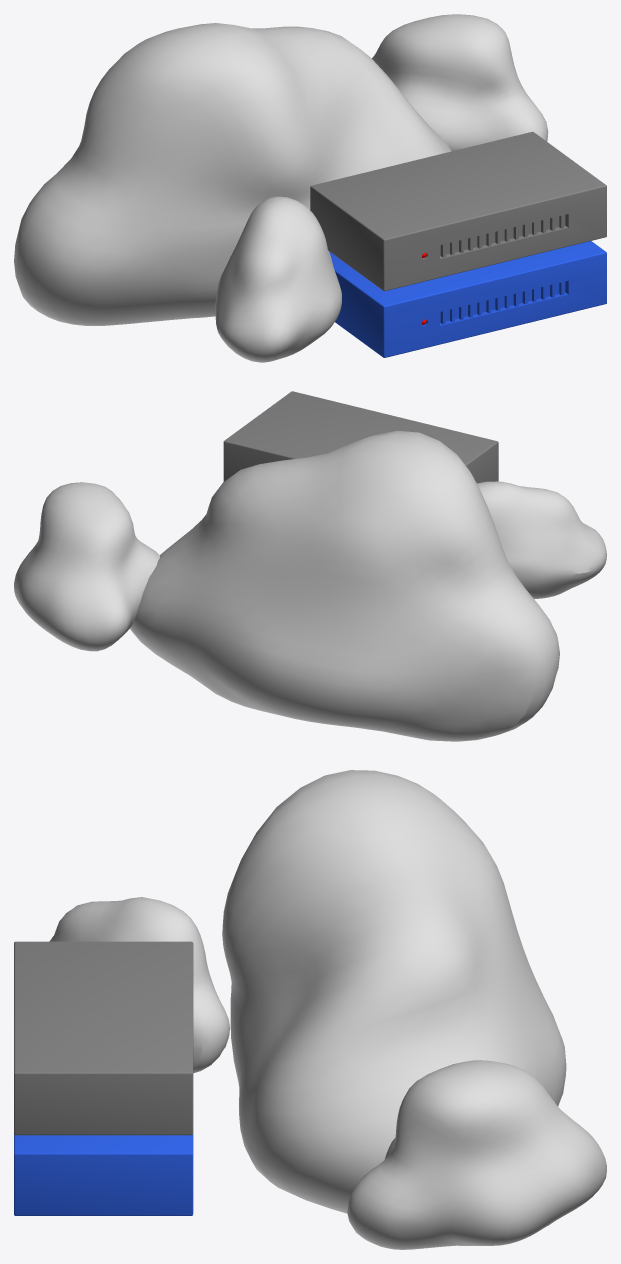
3 renders of one model, top to bottom at view 1: azimuth 30°, elevation 25°; view 2: azimuth 150°, elevation 25°; view 3: azimuth 270°, elevation 25°, orthographic. The views are drawn at different scales.
Visible parts, largest first — view 1: 球体_1, 布尔_1, 布尔, 球体, 云1_1, 克隆, 克隆_1; view 2: 球体_1, 云1_1, 布尔_1, 球体; view 3: 球体_1, 布尔_1, 云1_1, 布尔, 球体.
Part boxes in pixels (bbox=[...]): 球体_1: bbox=[14, 23, 451, 325]; 布尔_1: bbox=[310, 131, 606, 291]; 布尔: bbox=[329, 241, 606, 357]; 球体: bbox=[215, 196, 341, 362]; 云1_1: bbox=[372, 14, 548, 151]; 克隆: bbox=[440, 215, 564, 257]; 克隆_1: bbox=[440, 282, 564, 324]; 球体_1: bbox=[130, 430, 559, 741]; 云1_1: bbox=[14, 482, 159, 651]; 布尔_1: bbox=[223, 391, 498, 483]; 球体: bbox=[477, 481, 606, 599]; 球体_1: bbox=[222, 770, 566, 1213]; 布尔_1: bbox=[14, 941, 193, 1135]; 云1_1: bbox=[347, 1060, 606, 1249]; 布尔: bbox=[14, 1134, 193, 1215]; 球体: bbox=[49, 897, 229, 1073].
Size of the model in its own units: 473 by 244 by 380.
